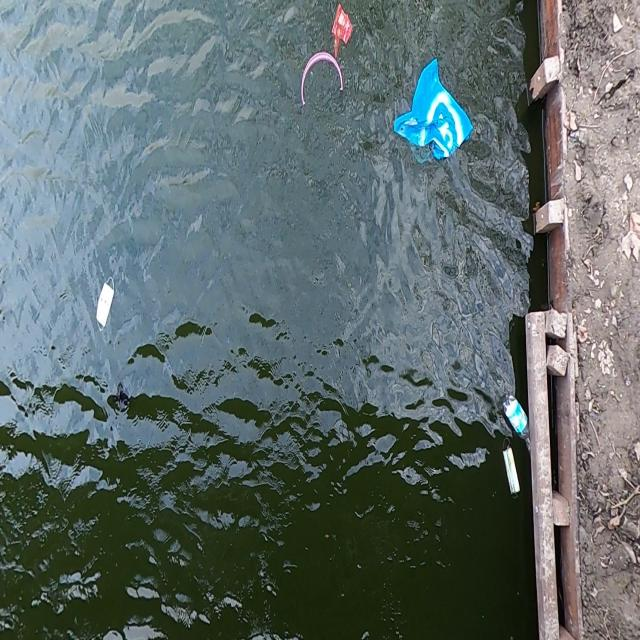Non plastique: (93, 270, 119, 336)
Sac plastique: (386, 53, 476, 175)
